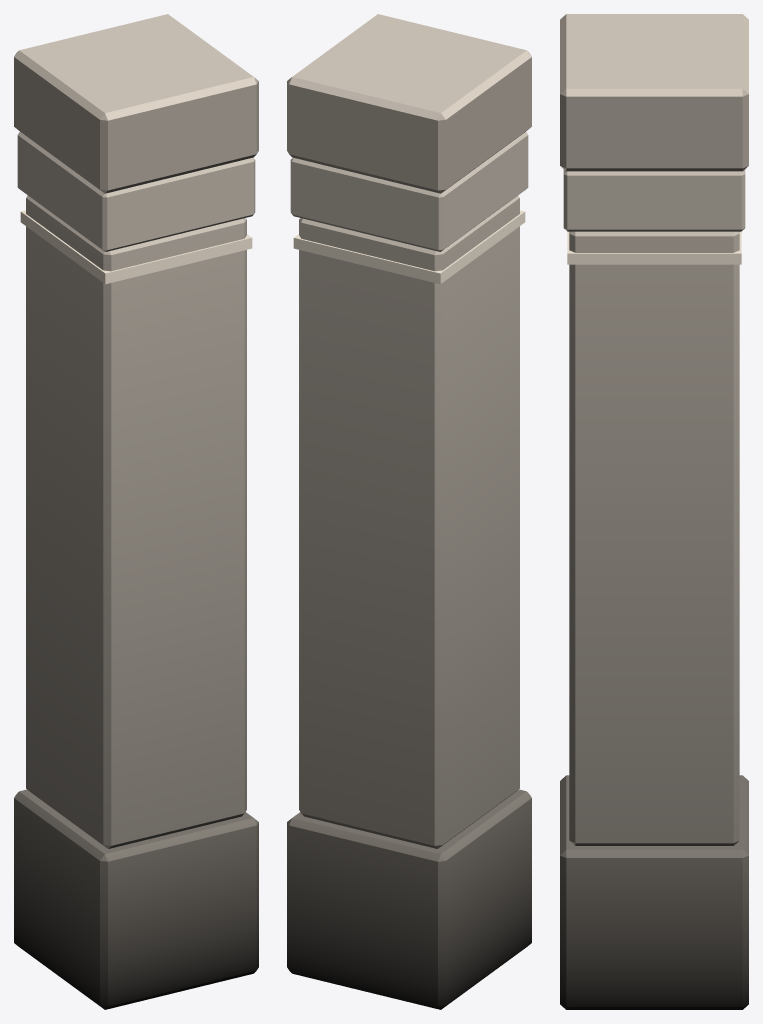
The model's file is SM_VKI_Post_Dwarf_Corner_Full.fbx.
3 renders of one model, left to right at view 1: azimuth 30°, elevation 25°; view 2: azimuth 150°, elevation 25°; view 3: azimuth 270°, elevation 25°, orthographic. The views are drawn at different scales.
Parts seen in each view (by area): view 1: SM_VKI_Post_Dwarf_Corner_Full.001; view 2: SM_VKI_Post_Dwarf_Corner_Full.001; view 3: SM_VKI_Post_Dwarf_Corner_Full.001.
Boxes of the visible parts, left/top/right/bottom form: SM_VKI_Post_Dwarf_Corner_Full.001: left=14, top=14, right=258, bottom=1009; SM_VKI_Post_Dwarf_Corner_Full.001: left=287, top=14, right=531, bottom=1009; SM_VKI_Post_Dwarf_Corner_Full.001: left=560, top=14, right=748, bottom=1009.
Bounding box in the file's own units: 0.62 × 3.34 × 0.62.
